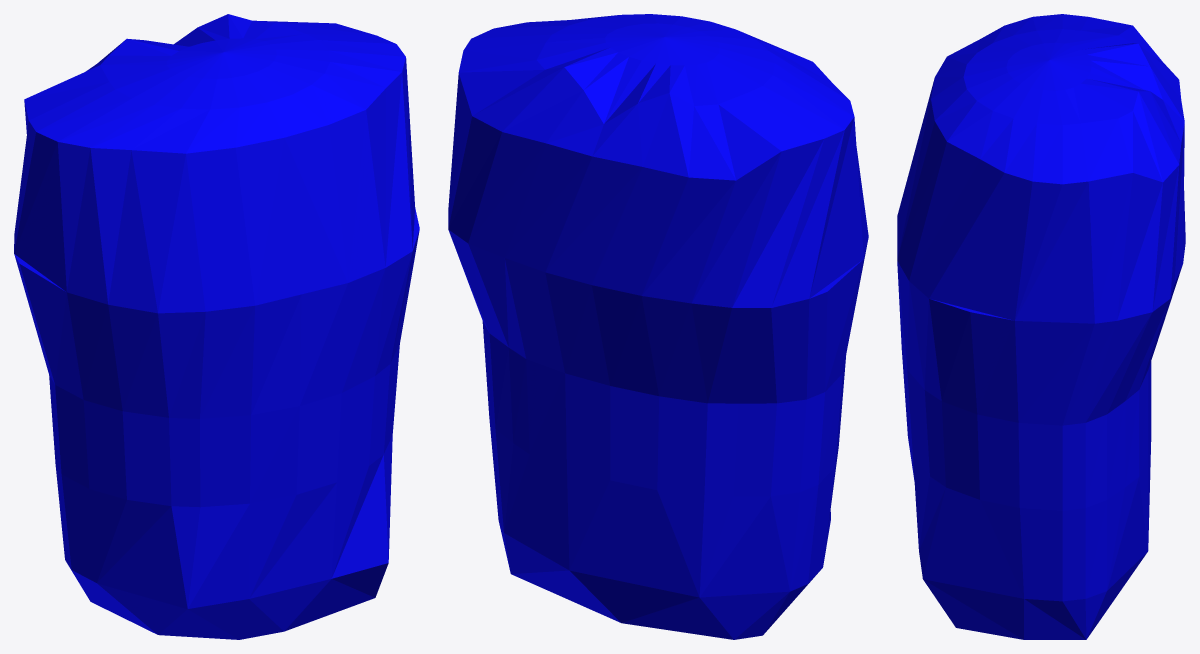
Rendered from Chest_mesh.dae.
3 views of the same model, side by side, from view 1: azimuth 30°, elevation 25°; view 2: azimuth 150°, elevation 25°; view 3: azimuth 270°, elevation 25° (orthographic). The views are drawn at different scales.
Parts seen in each view (by area): view 1: Chest; view 2: Chest; view 3: Chest.
Boxes of the visible parts, x1=… form: Chest: x1=14, y1=14, x2=419, y2=639; Chest: x1=448, y1=14, x2=868, y2=639; Chest: x1=897, y1=14, x2=1185, y2=639.
Size of the model in its own units: 0.3202 by 0.472 by 0.2292.
